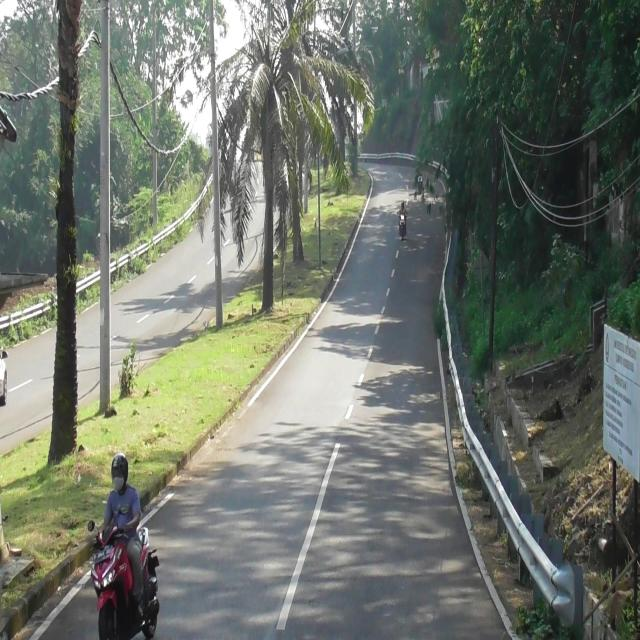motorcycle: (82, 510, 165, 640), (398, 213, 407, 239)
person: (100, 458, 149, 618), (397, 200, 408, 220)
rider_region: (92, 454, 162, 639), (396, 200, 409, 242)
